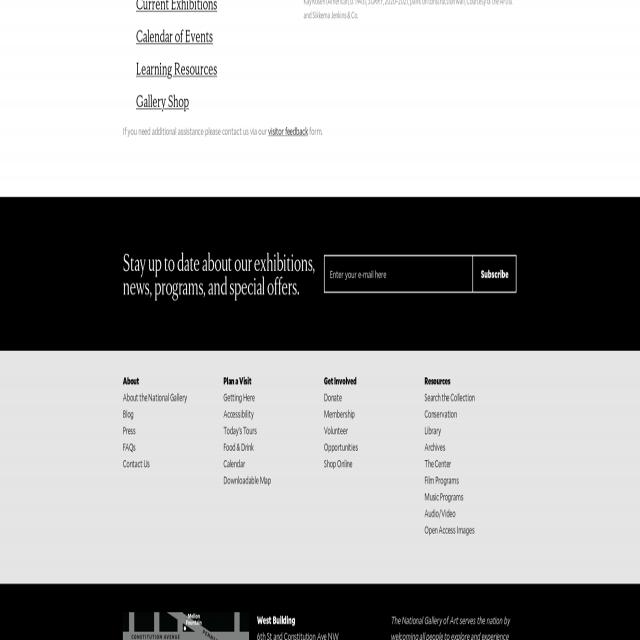button: (472, 255, 516, 292)
field: (324, 255, 473, 292)
